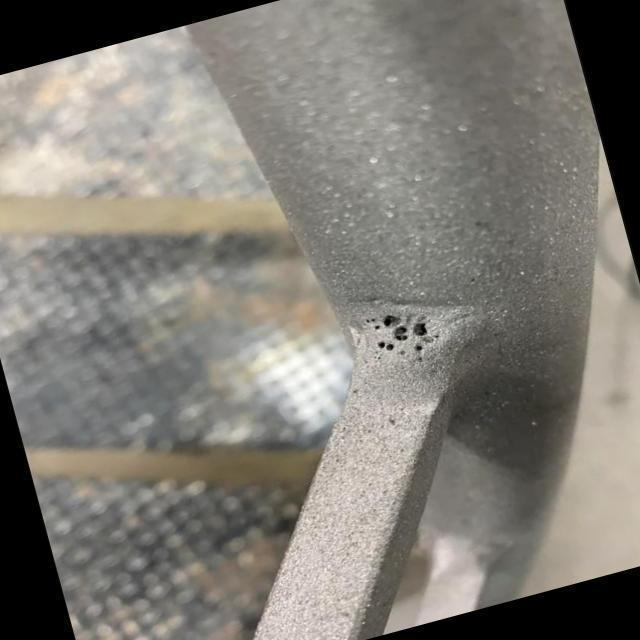defect: (359, 312, 398, 332), (410, 322, 432, 339), (389, 326, 410, 341), (375, 340, 397, 351), (413, 343, 425, 352), (372, 353, 383, 362), (415, 355, 426, 364), (395, 349, 406, 356)
